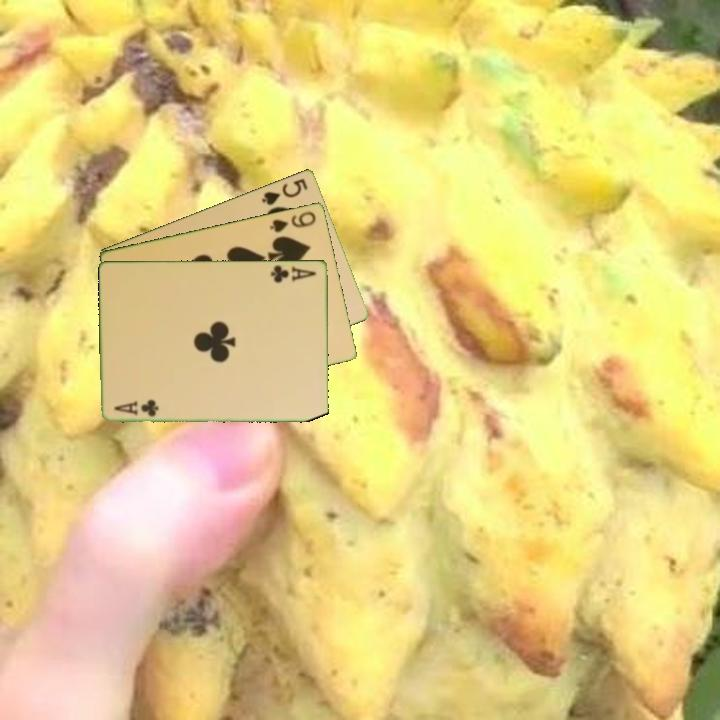5s: (258, 175, 311, 208)
9s: (266, 208, 319, 235)
Ac: (268, 261, 319, 285), (111, 396, 162, 419)
